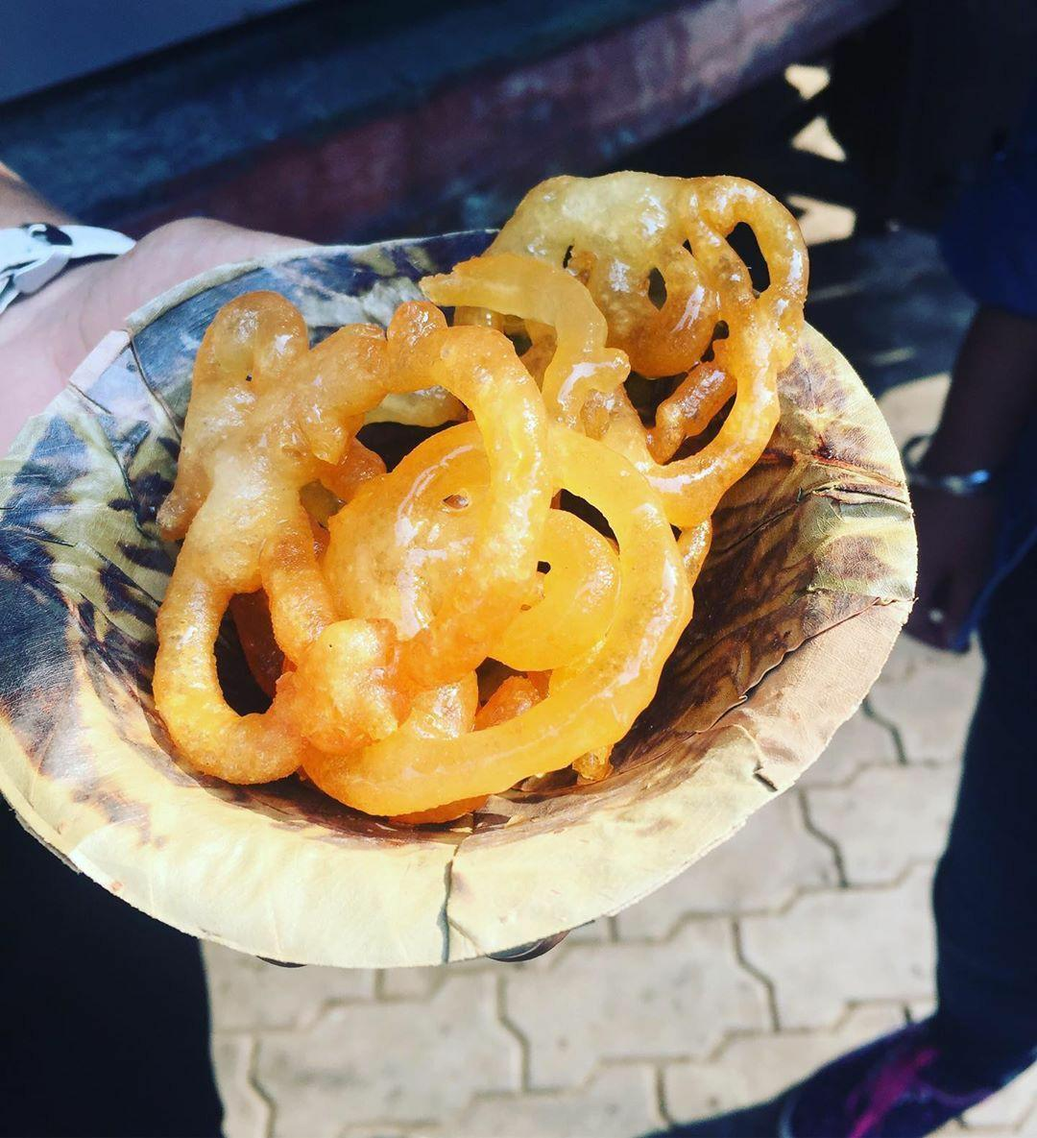Jalebi: (154, 170, 808, 819)
